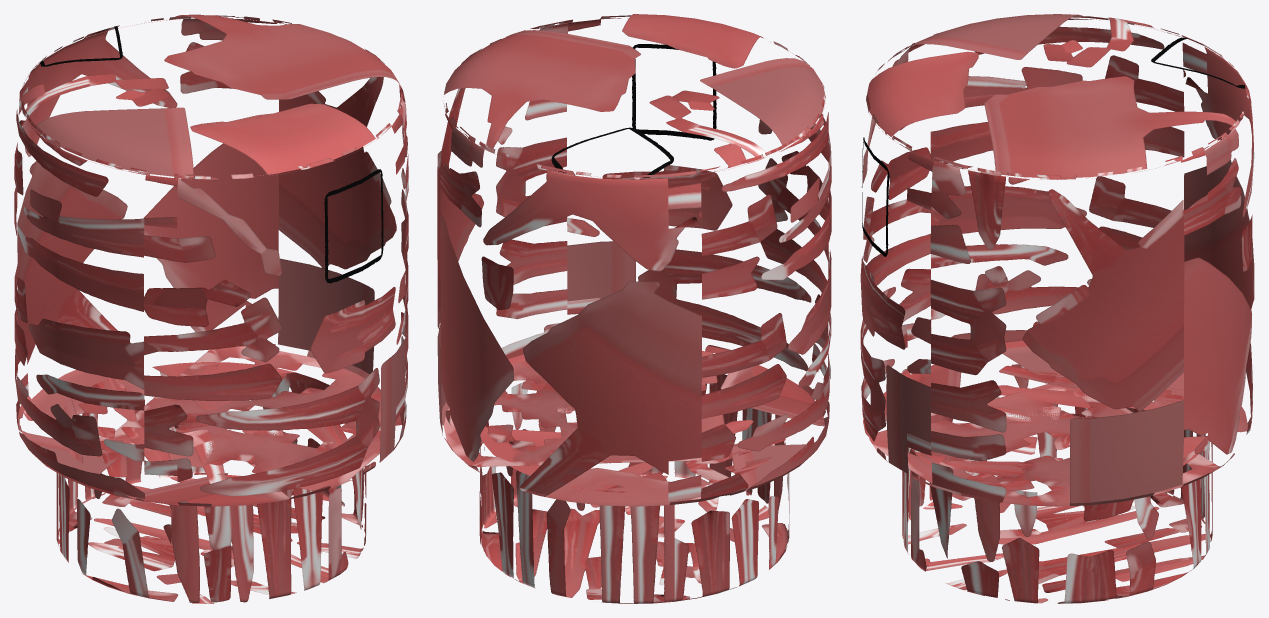
3 renders of one model, left to right at view 1: azimuth 30°, elevation 25°; view 2: azimuth 150°, elevation 25°; view 3: azimuth 270°, elevation 25°, orthographic.
Parts seen in each view (by area): view 1: solid_002, solid_001; view 2: solid_002, solid_001; view 3: solid_002, solid_001.
Boxes of the visible parts, left/top/right/bottom form: solid_002: left=14, top=14, right=408, bottom=506; solid_001: left=56, top=362, right=366, bottom=603; solid_002: left=437, top=14, right=831, bottom=506; solid_001: left=479, top=374, right=789, bottom=603; solid_002: left=860, top=14, right=1254, bottom=506; solid_001: left=902, top=364, right=1212, bottom=603.
Size of the model in its own units: 1.09 by 1.4 by 1.09.
